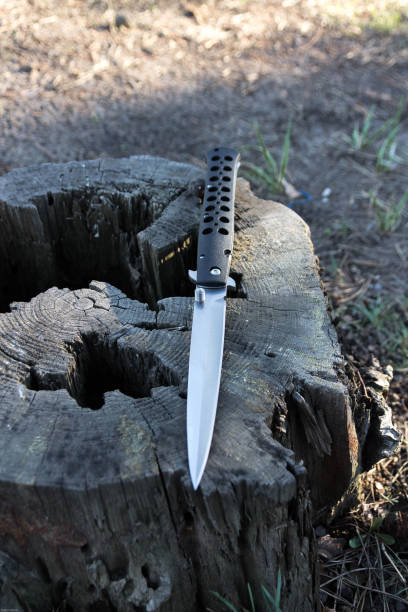knife: (183, 139, 244, 493)
